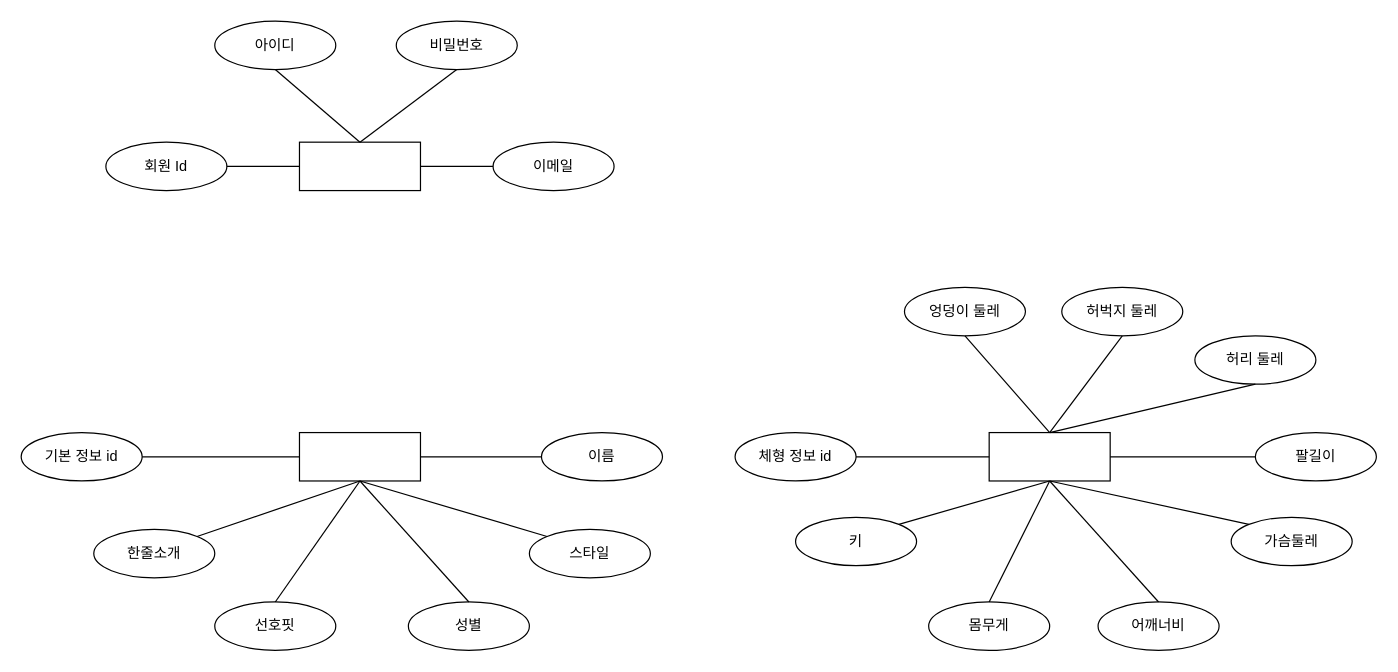
This 1398x672 diagram has some shape labels left out. Each missing label, with the centre of its shape:
기본 정보: point 359,456
체형 정보: point 1049,456
회원: point 359,166
